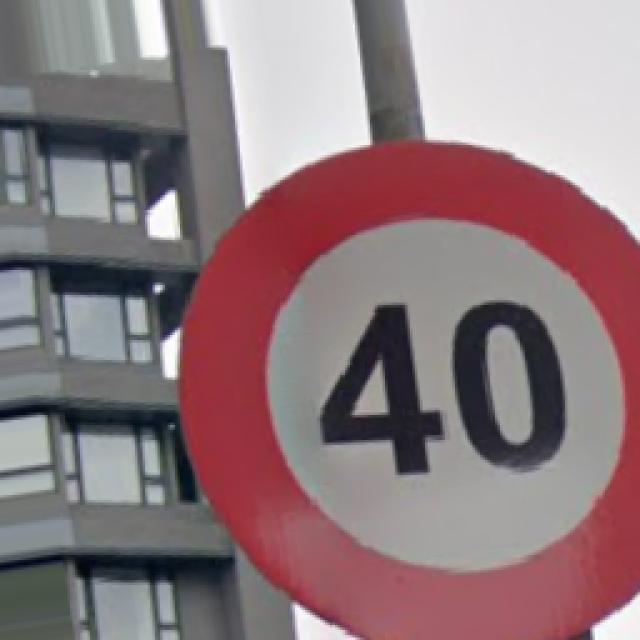Speed Limit -40-: (180, 145, 638, 638)
